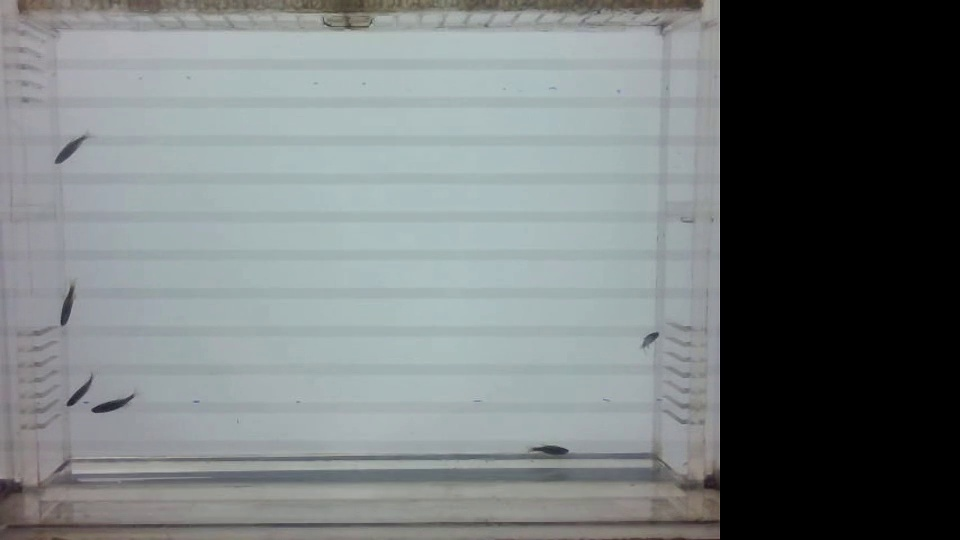fish: (45, 272, 84, 332), (48, 128, 93, 169), (62, 368, 94, 412), (86, 397, 142, 417), (520, 441, 573, 461), (632, 328, 660, 354)
